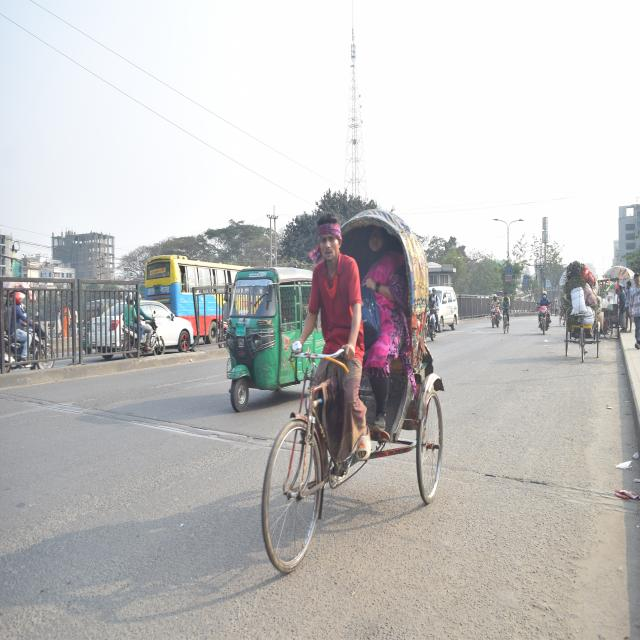bus: (150, 250, 239, 346)
car: (93, 294, 195, 356)
microbus: (434, 280, 464, 342)
motorbike: (119, 309, 165, 366), (483, 293, 505, 337), (533, 292, 552, 341), (428, 298, 440, 348)
